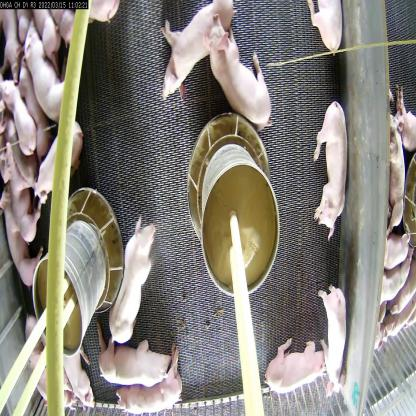Pig: (203, 10, 282, 128), (153, 0, 233, 103), (0, 184, 54, 307), (102, 221, 150, 350), (22, 18, 80, 118), (310, 93, 347, 236), (0, 134, 43, 241), (320, 271, 351, 415), (26, 112, 81, 192), (24, 318, 69, 414), (115, 362, 192, 415), (90, 349, 172, 393), (258, 336, 324, 388), (376, 100, 404, 216), (22, 64, 58, 154), (0, 73, 39, 153), (302, 0, 358, 55), (57, 339, 89, 391)
